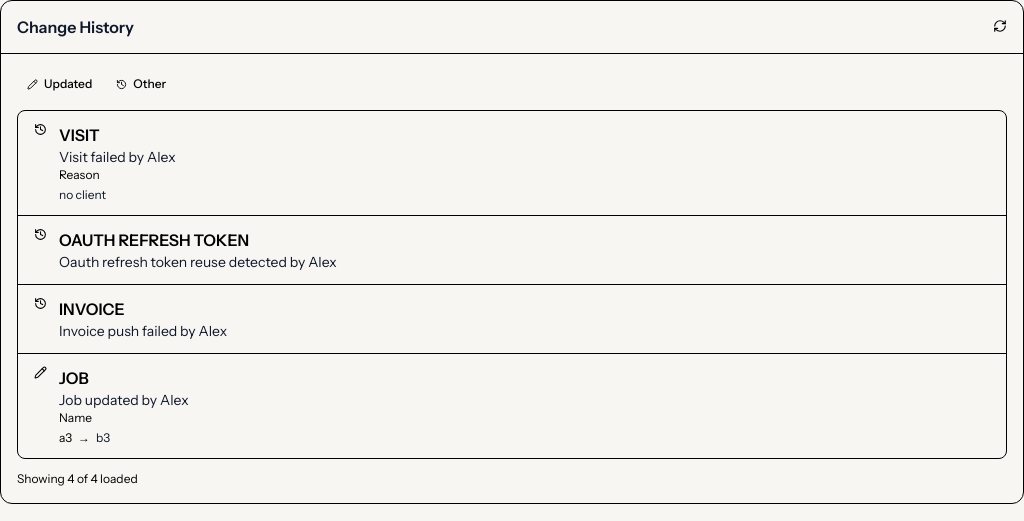
Scenario: ChangeHistory — L3 verb filter vs Show more › shows rows with verbs no chip lists under 'Other' (on by default) and hides them when Other is off
Expected: the text "Showing 4 of 4 loaded" is shown, [17, 471, 138, 487]
Click the button "Other" at coordinates (141, 84), box [106, 70, 176, 98]
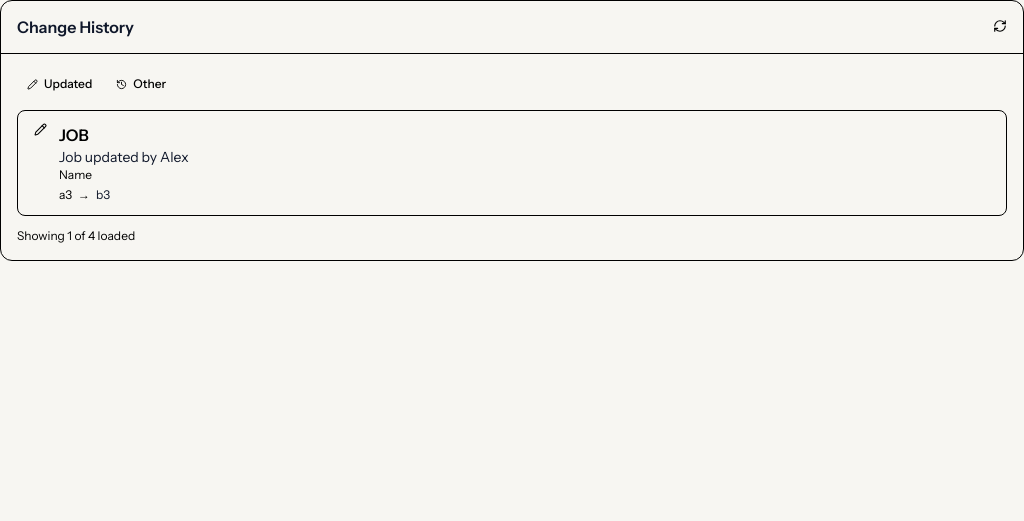
Result: the text "Visit failed by Alex" is gone
Result: the text "reuse detected" is gone
Result: the text "push failed" is gone
